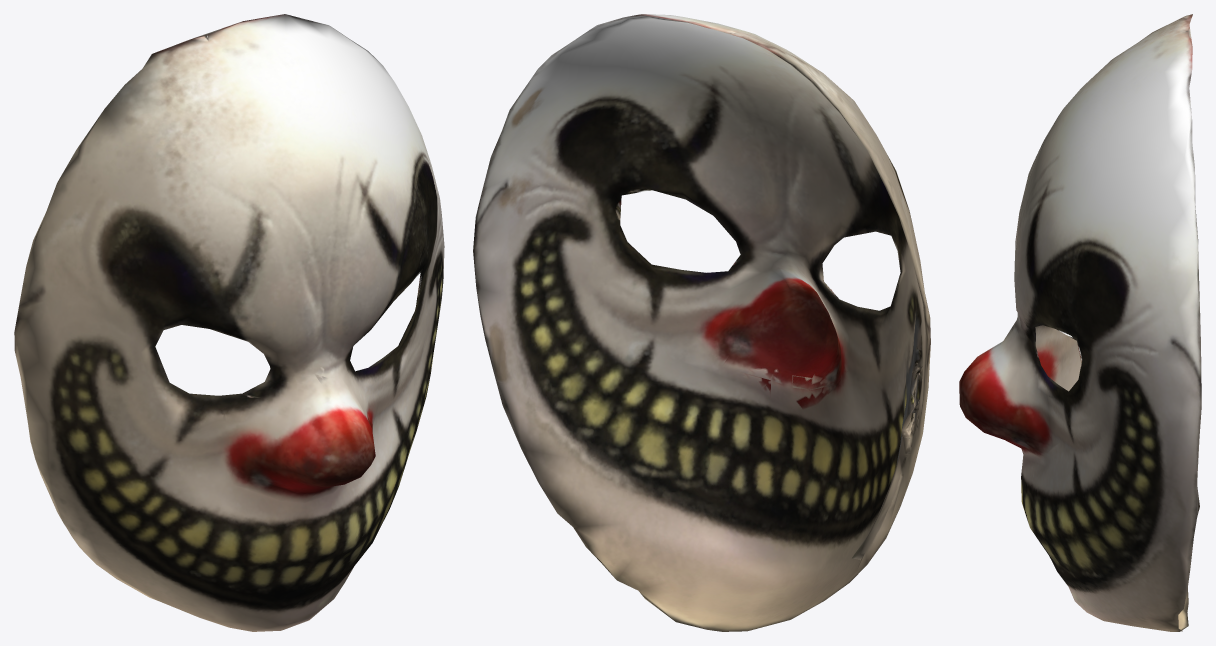
The model's file is clown_2_mask.glb.
The picture shows the model from 3 angles, left to right: view 1: azimuth 30°, elevation 25°; view 2: azimuth 150°, elevation 25°; view 3: azimuth 270°, elevation 25°; orthographic projection. The views are drawn at different scales.
Visible parts, largest first — view 1: geo1; view 2: geo1; view 3: geo1.
Part boxes in pixels (box(x1,y1,x2,y2)): geo1: box(14, 14, 444, 631); geo1: box(473, 14, 930, 631); geo1: box(959, 14, 1201, 631).
Bounding box in the file's own units: 0.1949 × 0.2505 × 0.096.
1 material, 1 textured.
